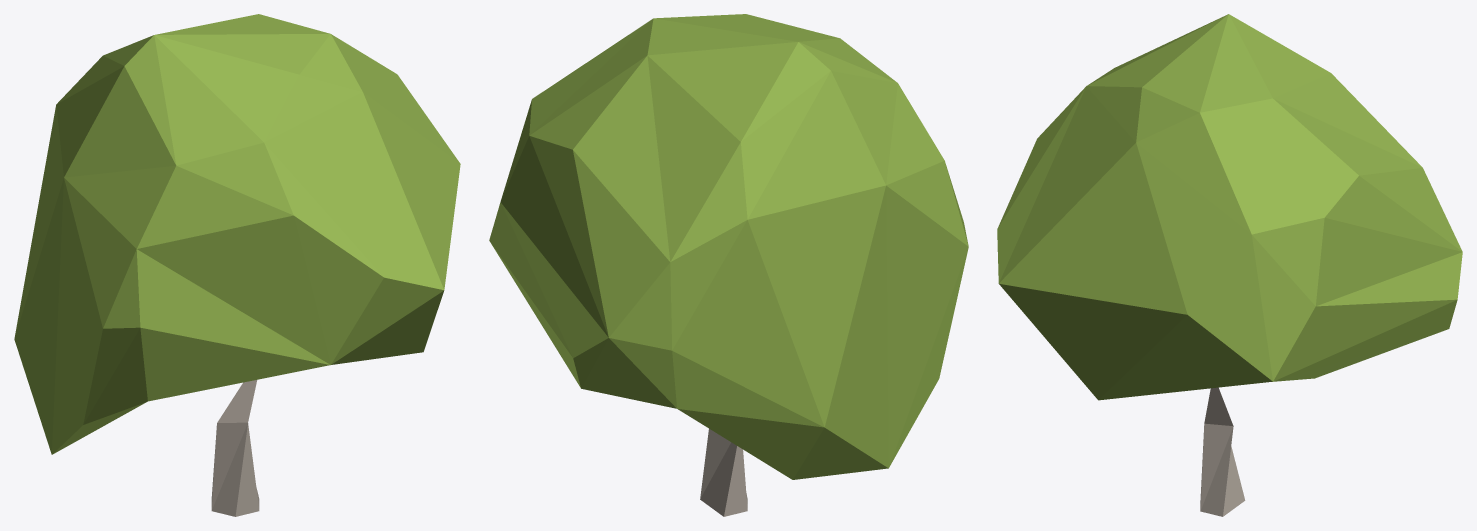
File: CastaneaDentata.glb
The picture shows the model from 3 angles, left to right: view 1: azimuth 30°, elevation 25°; view 2: azimuth 150°, elevation 25°; view 3: azimuth 270°, elevation 25°; orthographic projection. The views are drawn at different scales.
Visible parts, largest first — view 1: Crown, Trunk; view 2: Crown, Trunk; view 3: Crown, Trunk.
Part boxes in pixels (box(x1,y1,x2,y2)): Crown: box(14, 14, 460, 454); Trunk: box(211, 380, 259, 516); Crown: box(489, 14, 968, 479); Trunk: box(700, 428, 747, 516); Crown: box(997, 14, 1462, 400); Trunk: box(1200, 387, 1245, 516).
Size of the model in its own units: 18.31 by 21.4 by 19.79.
